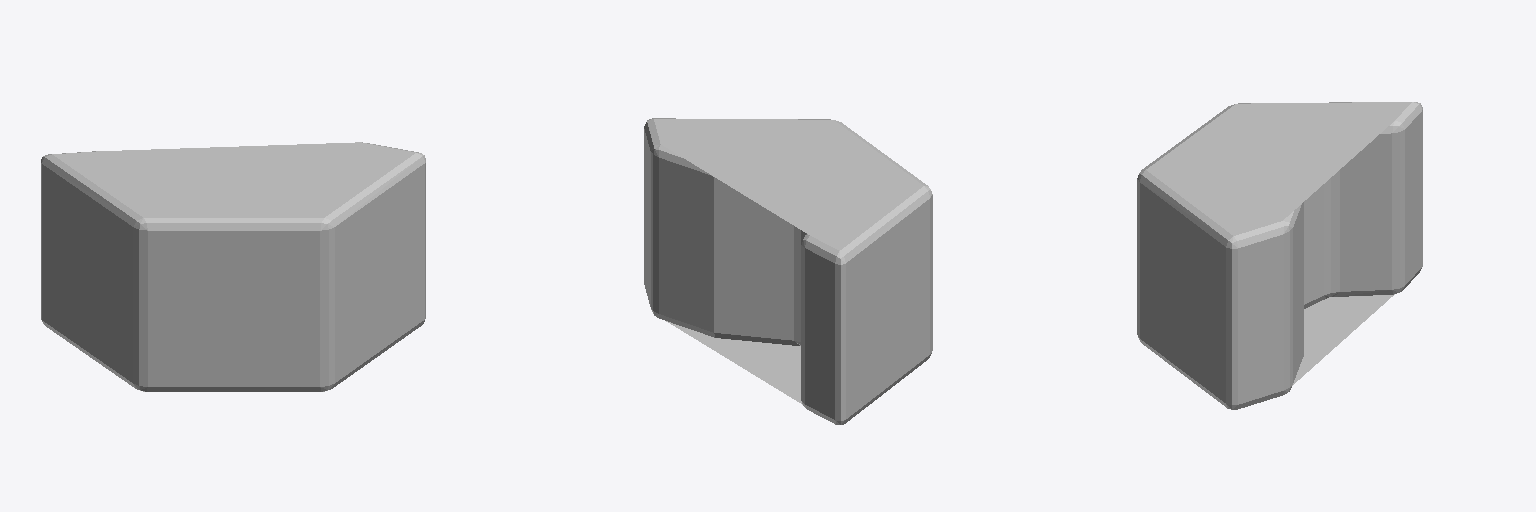
File: grass_border2.obj
The picture shows the model from 3 angles: view 1: azimuth 30°, elevation 25°; view 2: azimuth 150°, elevation 25°; view 3: azimuth 270°, elevation 25°; orthographic projection.
Parts seen in each view (by area): view 1: grass_border2; view 2: grass_border2; view 3: grass_border2.
Boxes of the visible parts, <box> form: grass_border2: <box>41,142,425,391</box>; grass_border2: <box>644,118,932,424</box>; grass_border2: <box>1137,102,1422,409</box>.
Size of the model in its own units: 7.04 by 4 by 5.96.